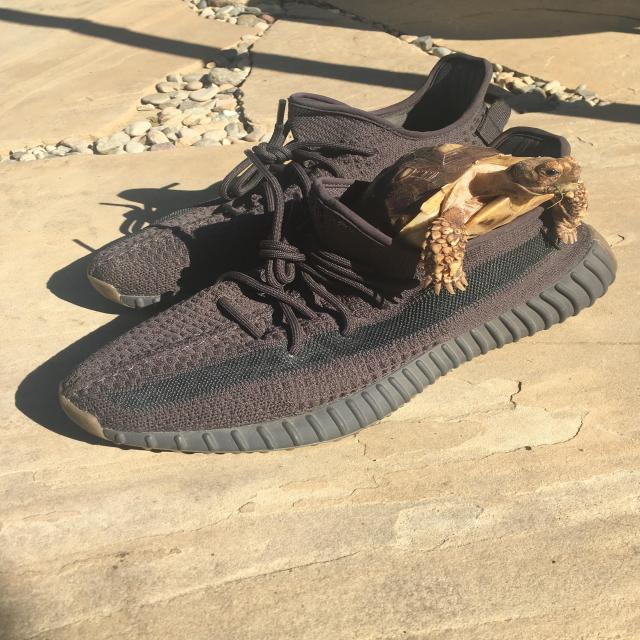shoe: (67, 158, 640, 452), (79, 52, 528, 309)
